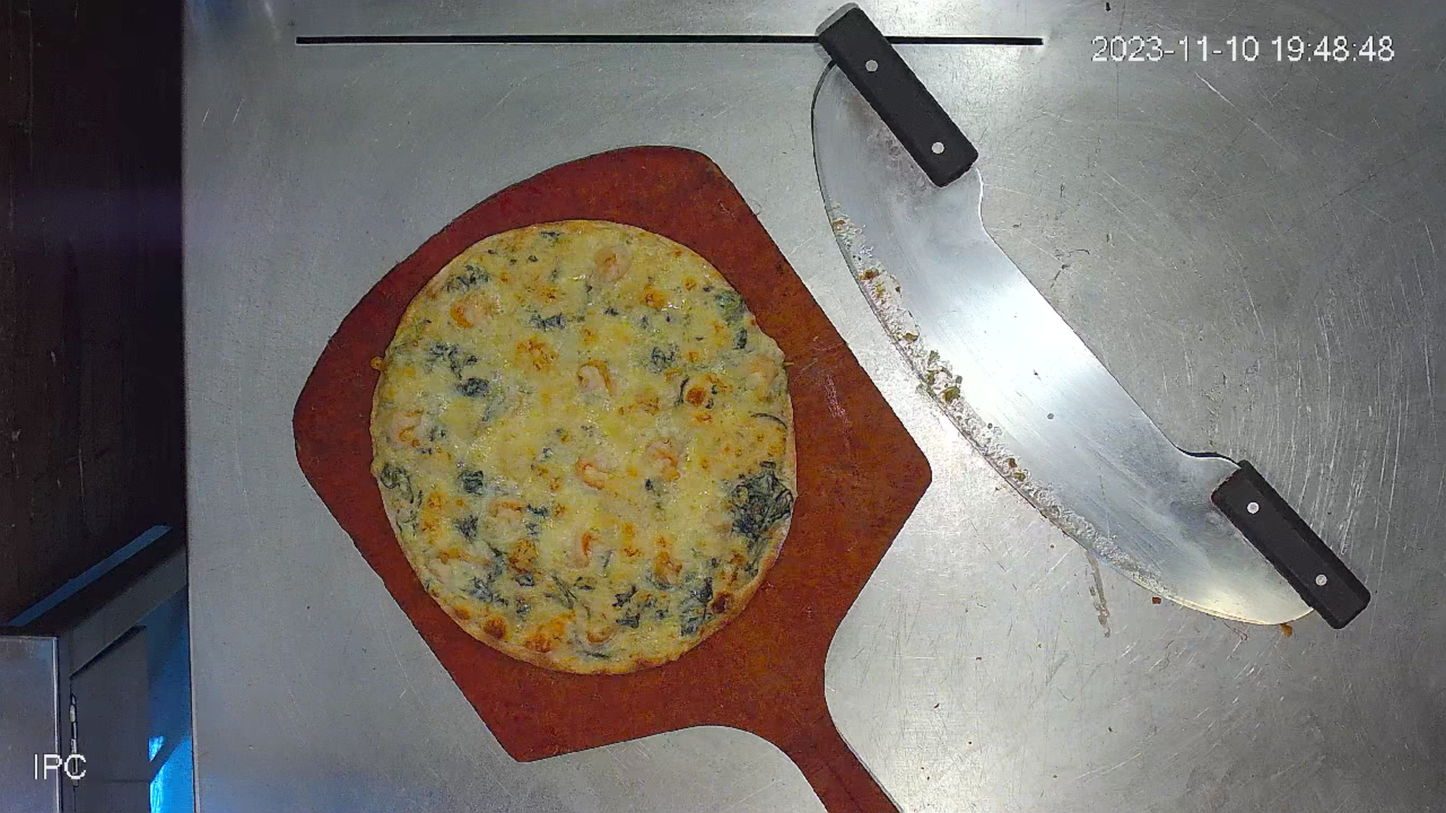pepporoni: (369, 216, 799, 675)
